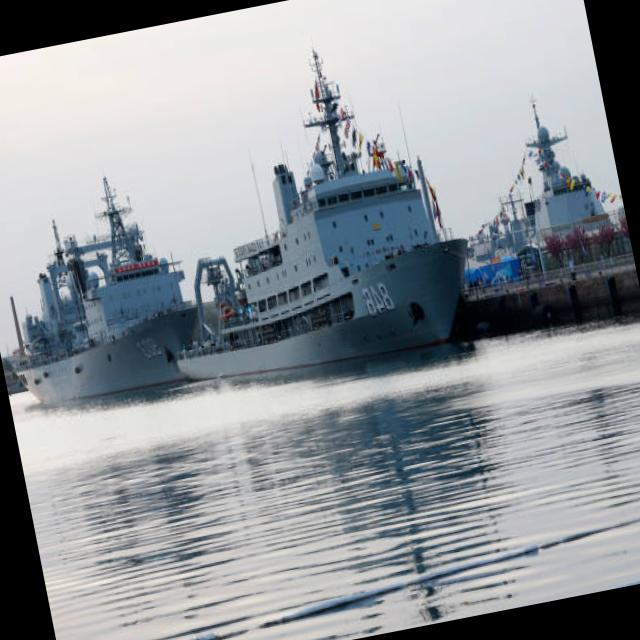Military: (177, 51, 469, 382), (17, 177, 198, 407)
